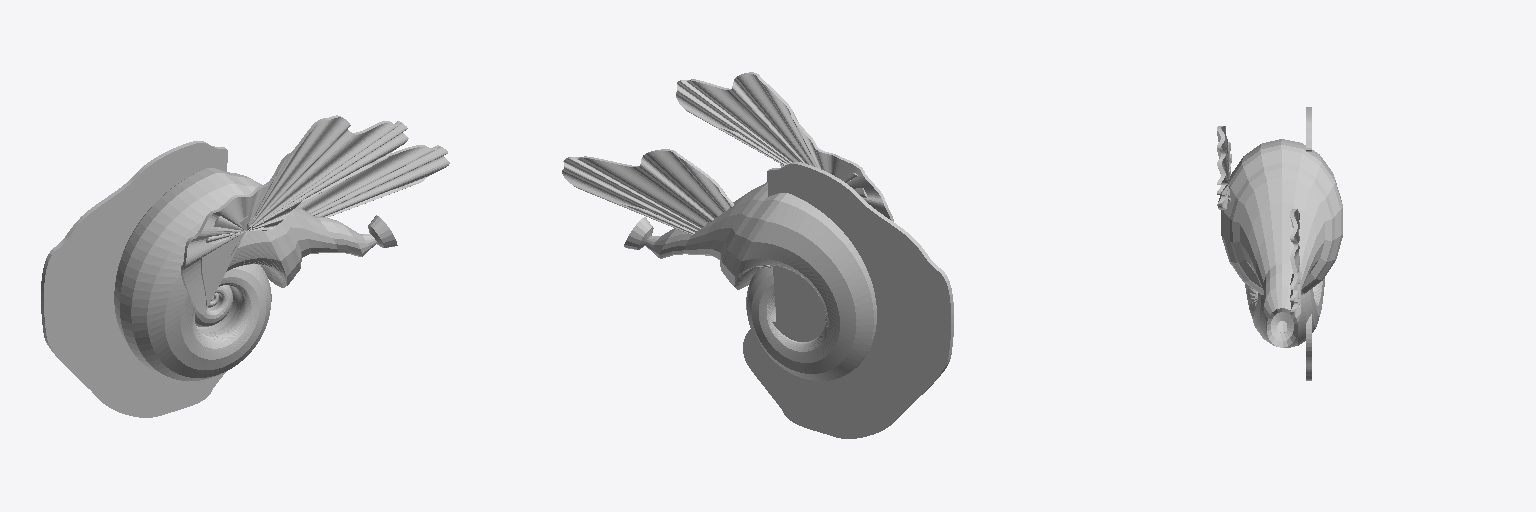
Rendered from pteropod.obj.
3 views of the same model, side by side, from view 1: azimuth 30°, elevation 25°; view 2: azimuth 150°, elevation 25°; view 3: azimuth 270°, elevation 25° (orthographic).
Visible parts, largest first — view 1: pterophod; view 2: pterophod; view 3: pterophod.
Boxes of the visible parts, x1=… form: pterophod: x1=41, y1=115, x2=449, y2=417; pterophod: x1=562, y1=72, x2=953, y2=438; pterophod: x1=1217, y1=107, x2=1342, y2=380.
Bounding box in the file's own units: 838 × 601 × 231.